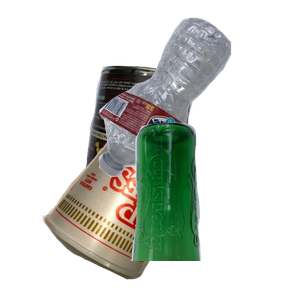glass: (129, 120, 300, 300)
metal: (78, 63, 266, 243)
plastic: (96, 15, 300, 184)
trash: (40, 121, 221, 300)
